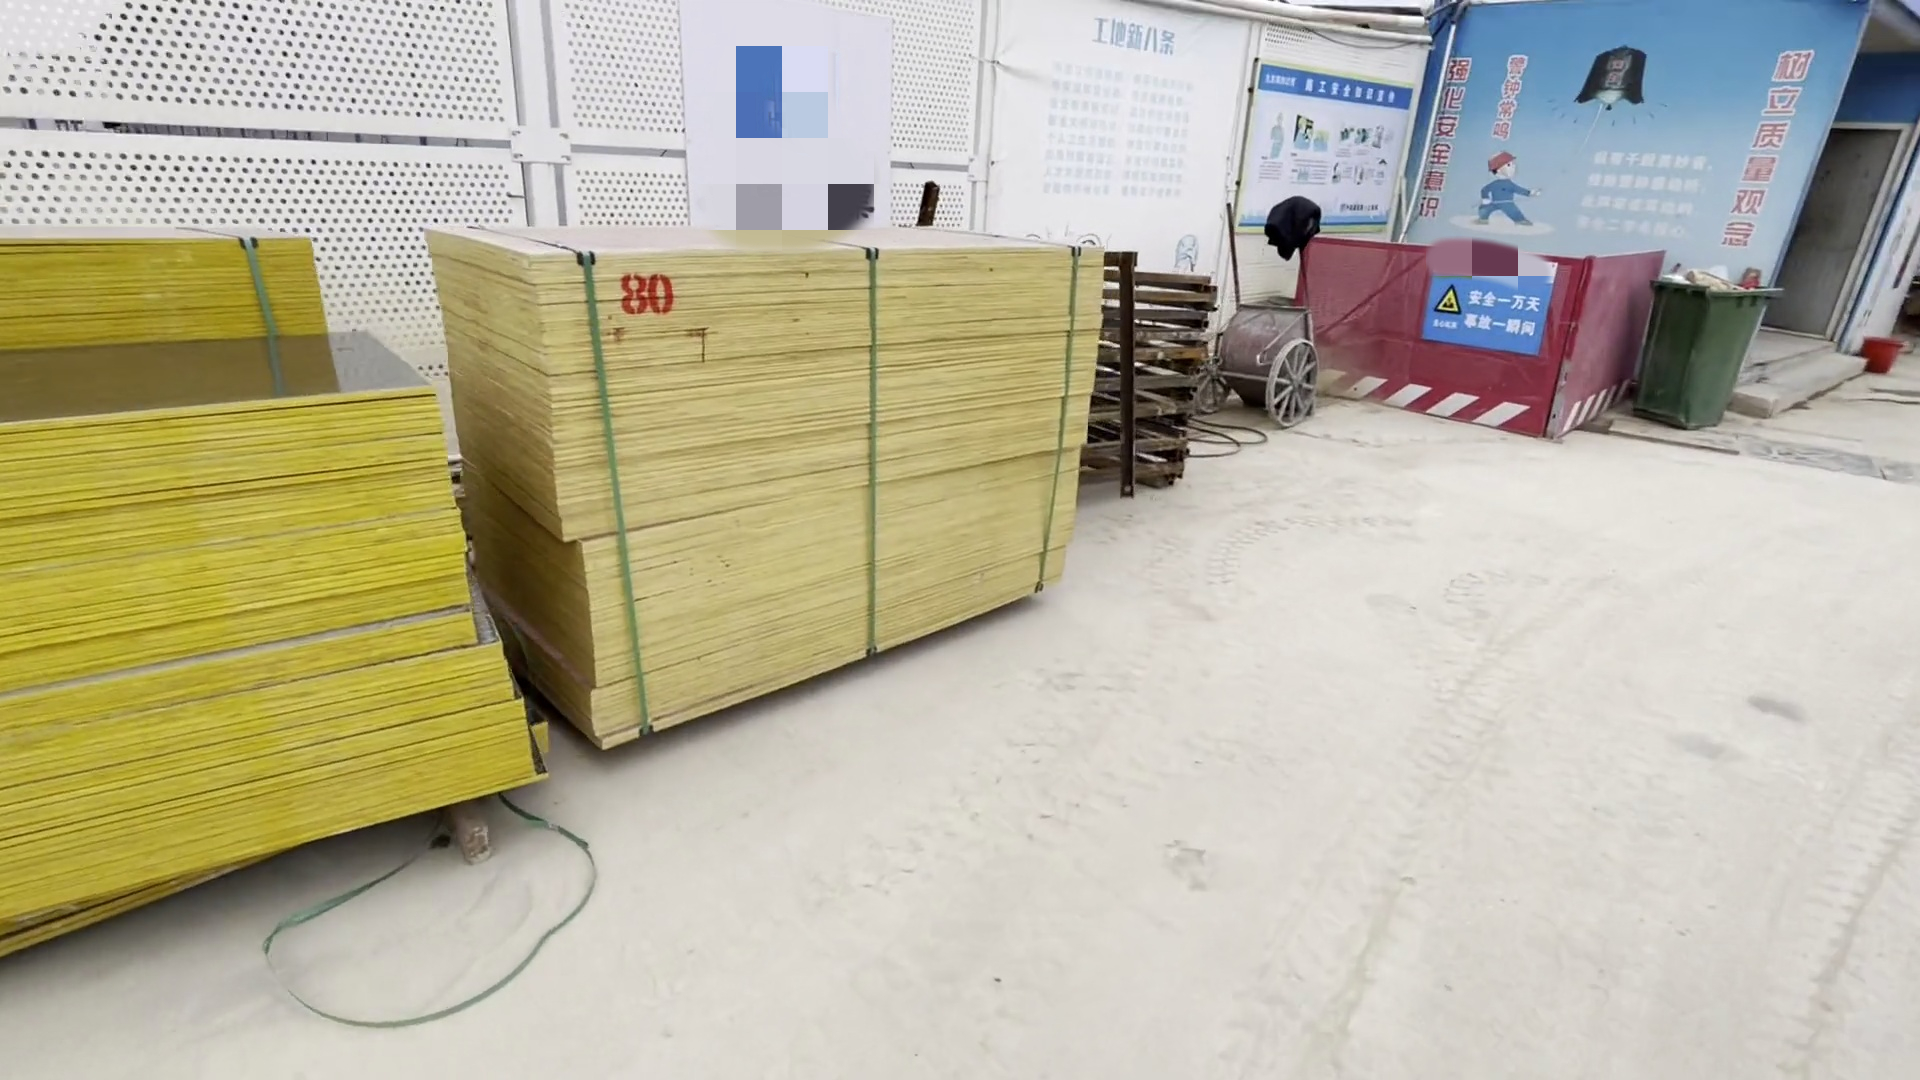board: (434, 222, 1127, 816), (16, 229, 514, 992)
handcart: (1197, 200, 1317, 454)
slogan: (1433, 270, 1538, 345)
